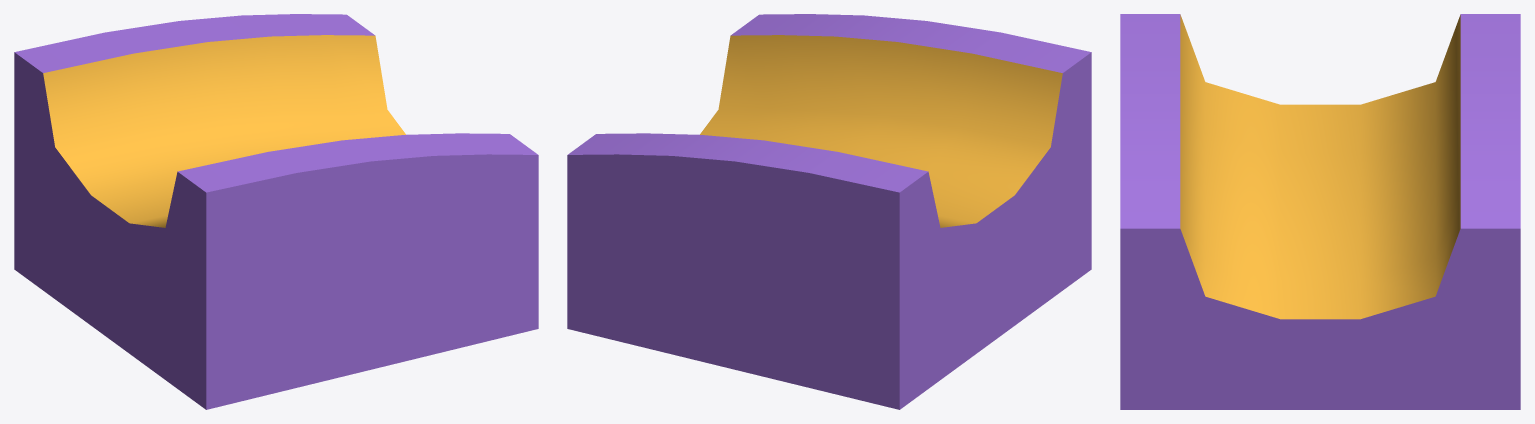
Rendered from ramp-end-solid-a-col.glb.
The picture shows the model from 3 angles, left to right: view 1: azimuth 30°, elevation 25°; view 2: azimuth 150°, elevation 25°; view 3: azimuth 270°, elevation 25°; orthographic projection. The views are drawn at different scales.
Parts seen in each view (by area): view 1: ramp-end-solid-a-col; view 2: ramp-end-solid-a-col; view 3: ramp-end-solid-a-col.
Part boxes in pixels (<box>): ramp-end-solid-a-col: <box>14,14,538,409</box>; ramp-end-solid-a-col: <box>567,14,1091,409</box>; ramp-end-solid-a-col: <box>1120,14,1520,409</box>.
Size of the model in its own units: 1 by 0.625 by 1.
1 material, 1 textured.
